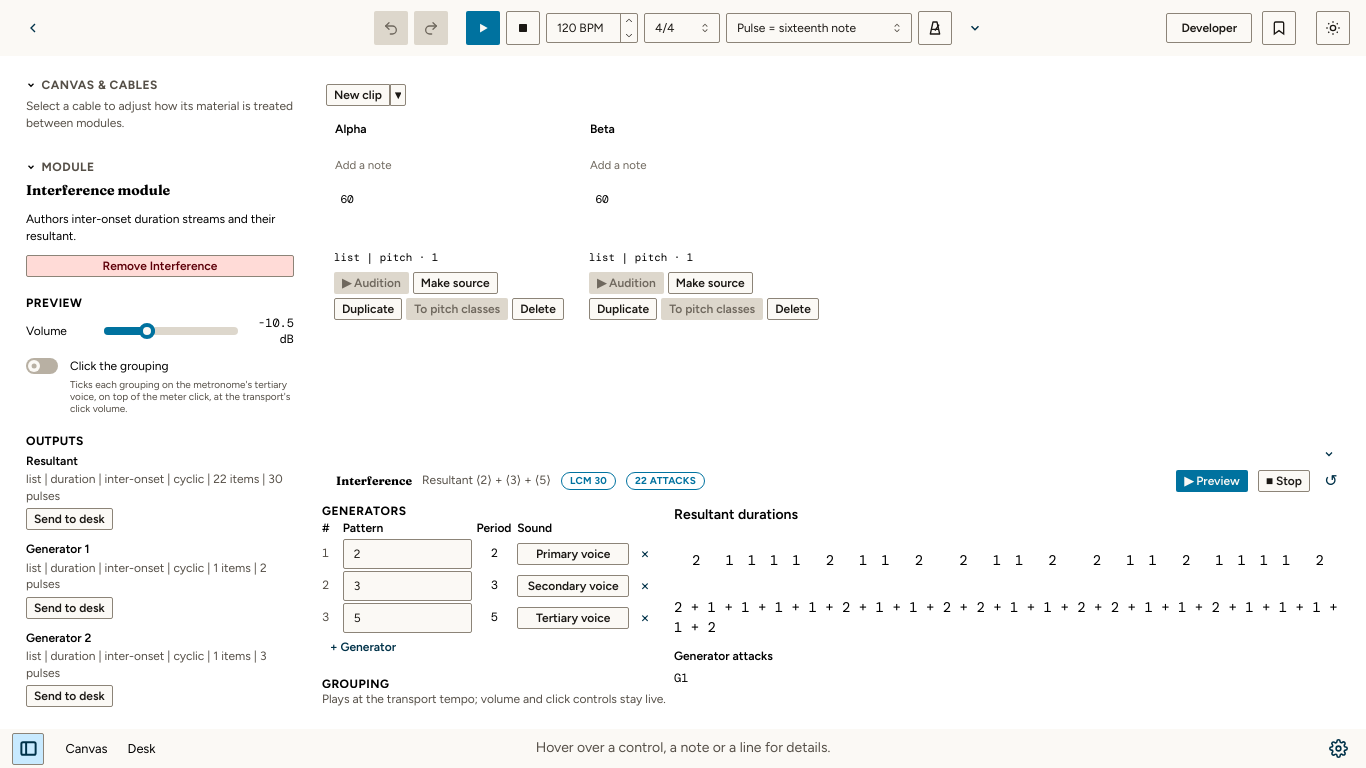
Test: the bottom panel targets a module or a clip › ends the edit session when the target leaves the clip
Double-click the 1st text "list | pitch · 1" at [386, 257], box x1=334 y1=250 x2=438 y2=264
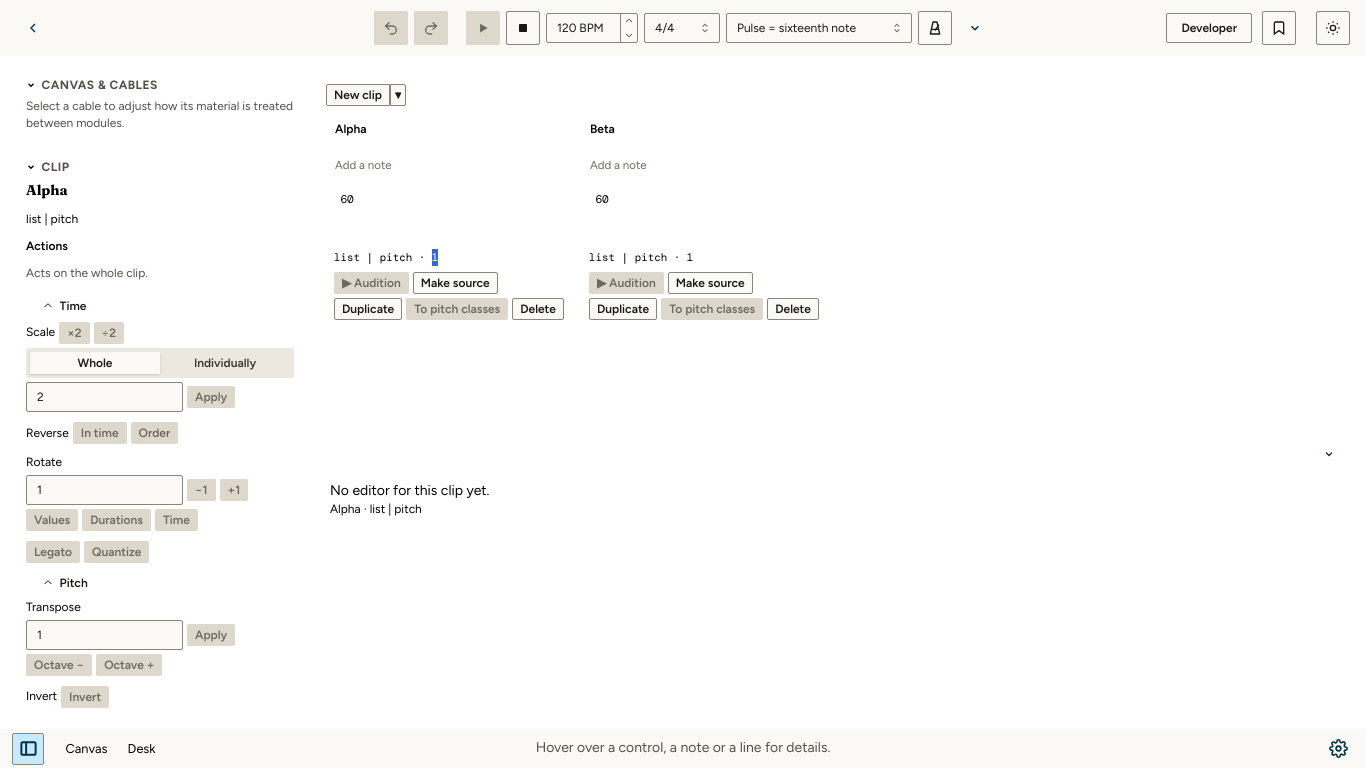
Double-click the 2nd text "list | pitch · 1" at [641, 257], box x1=589 y1=250 x2=693 y2=264
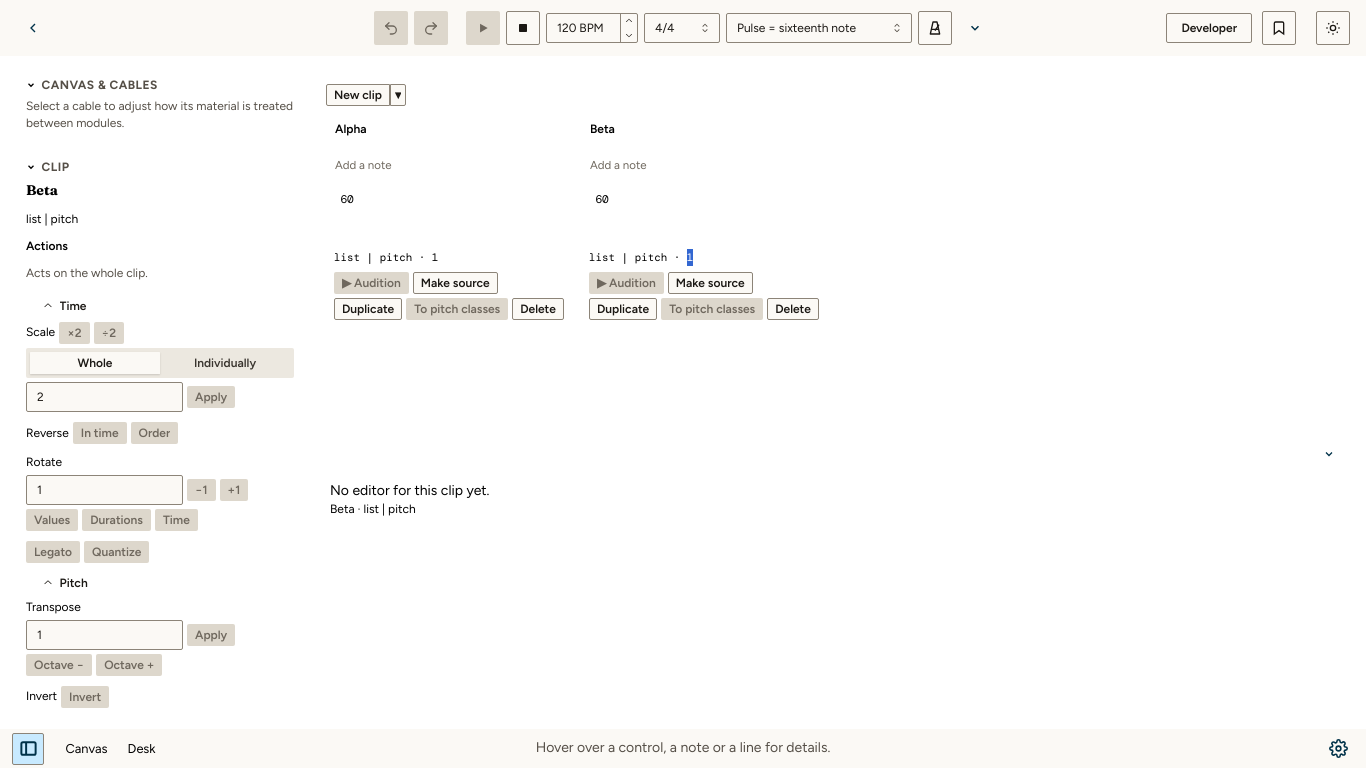
Check: the message shows "Beta", box x1=330 y1=502 x2=354 y2=516
